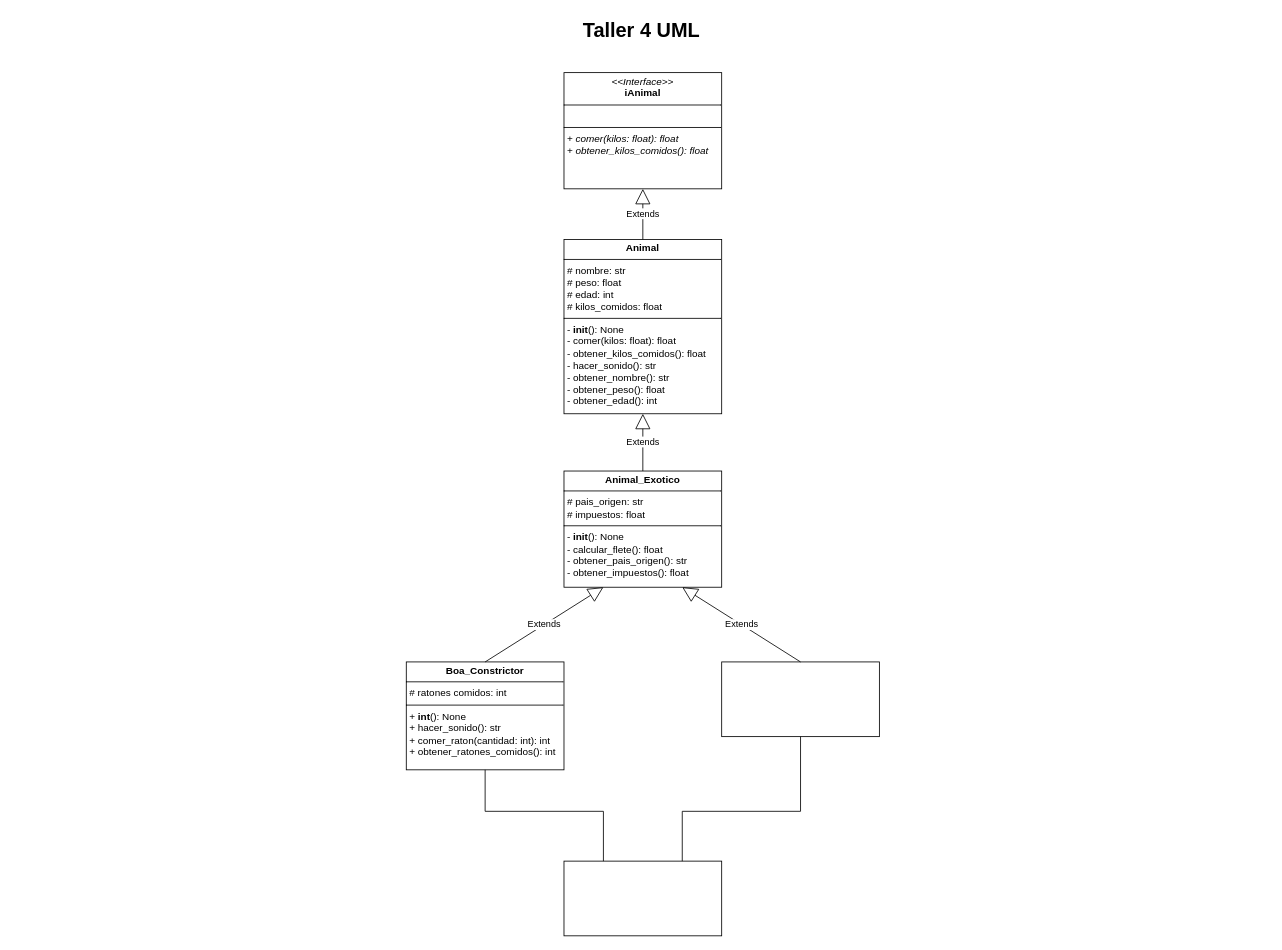
Image size: 1282x950. Some labels were removed from this diagram. The centre of each missing label's shape, as x and y in pixels:
"Guarderia + nombre: str - init (): None" goes at point (642, 898).
"Huron + init (): None + hacer_sonido(): str" goes at point (800, 699).
